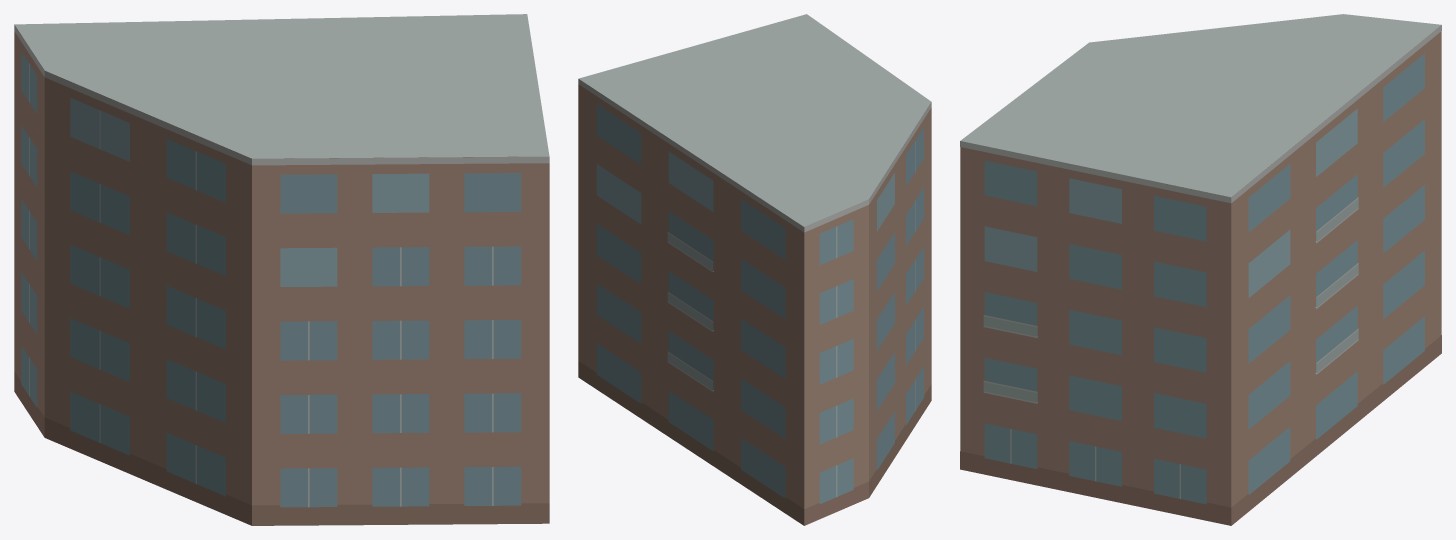
File: survey-upis-32526148.glb
3 views of the same model, side by side, from view 1: azimuth 30°, elevation 25°; view 2: azimuth 150°, elevation 25°; view 3: azimuth 270°, elevation 25° (orthographic). The views are drawn at different scales.
Parts seen in each view (by area): view 1: survey-upis-32526148.tmp; view 2: survey-upis-32526148.tmp; view 3: survey-upis-32526148.tmp.
Part boxes in pixels (x1,y1,x2,y2): survey-upis-32526148.tmp: (14,14,549,525); survey-upis-32526148.tmp: (578,14,931,525); survey-upis-32526148.tmp: (960,14,1441,525).
Size of the model in its own units: 15.98 by 13.35 by 17.75.
